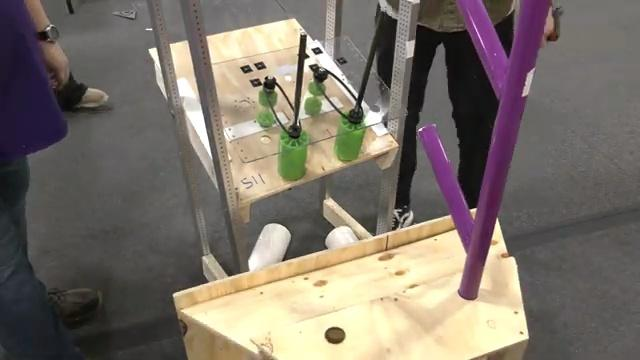CORAL: (246, 221, 291, 272), (326, 224, 359, 250)
